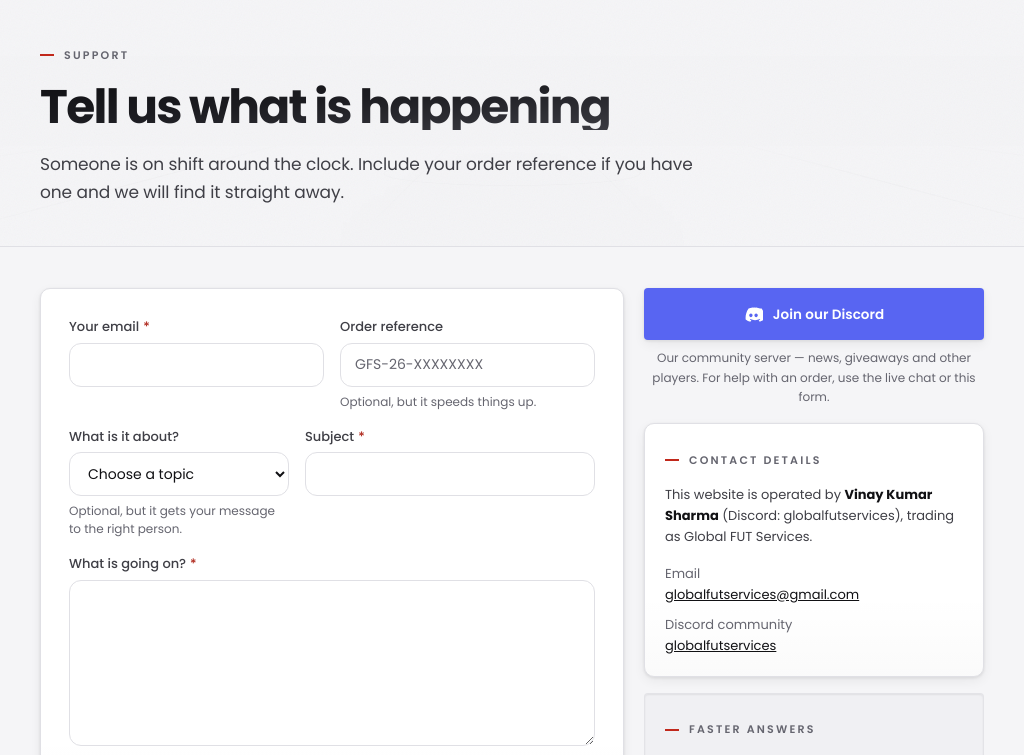
sending › on failure: says it was not sent, keeps what they wrote, and Send works again
Type "ada@example.test" into the field labelled "Your email*" at (196, 365), box [69, 343, 324, 387]
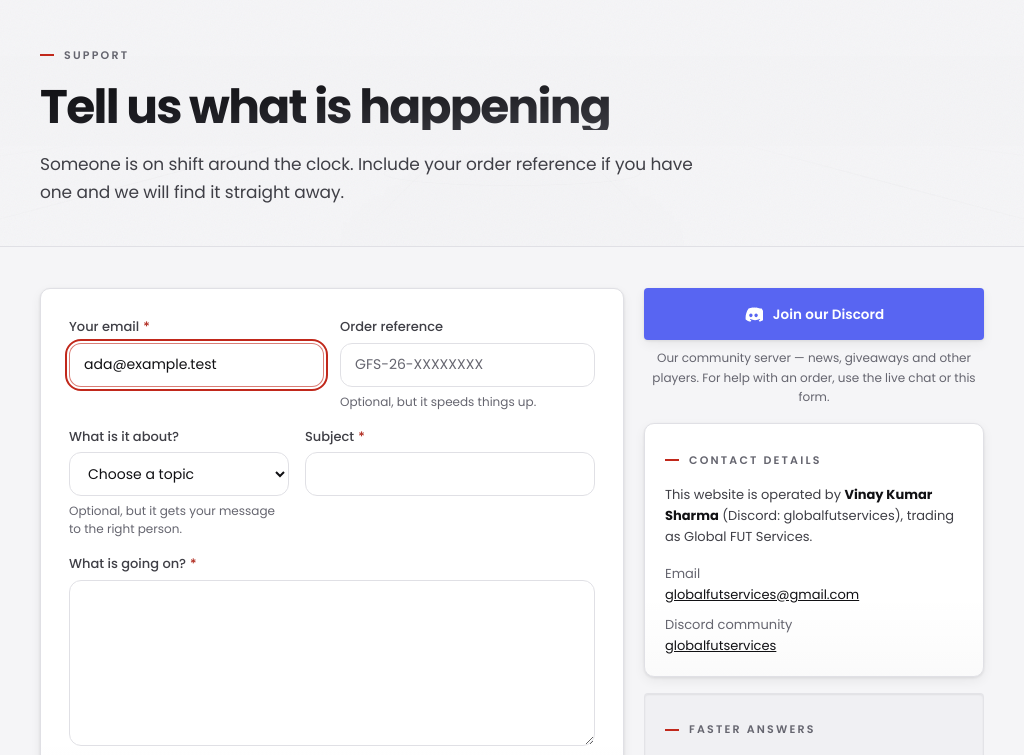
Type "Coins not arrived" into the field labelled "Subject*" at (450, 474), box [305, 452, 595, 496]
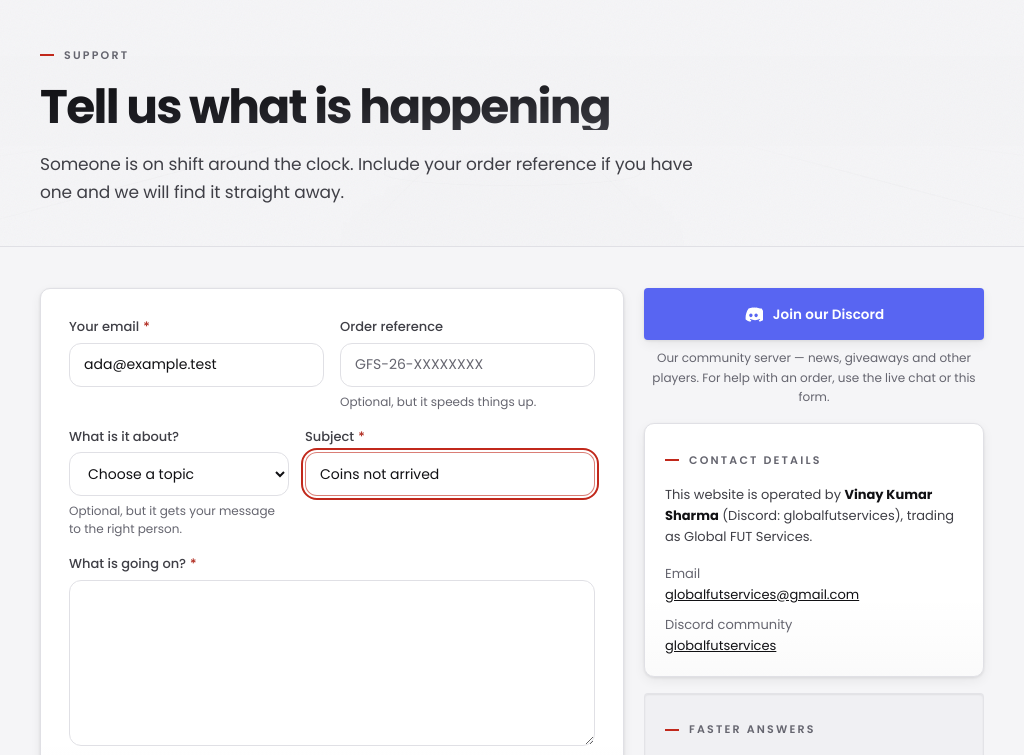
Type "Ordered yesterday, nothing yet." into the text box labelled "What is going on?*" at (332, 663), box [69, 580, 595, 746]
(page scrolled)
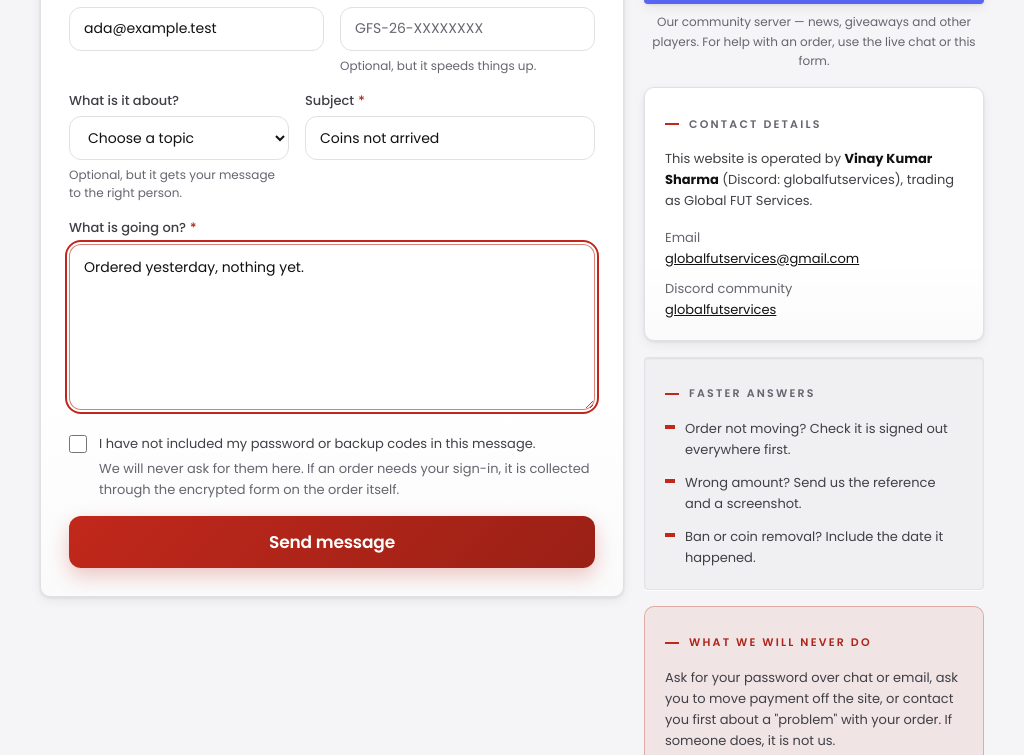
Click the checkbox at (78, 444), box [69, 435, 87, 453]
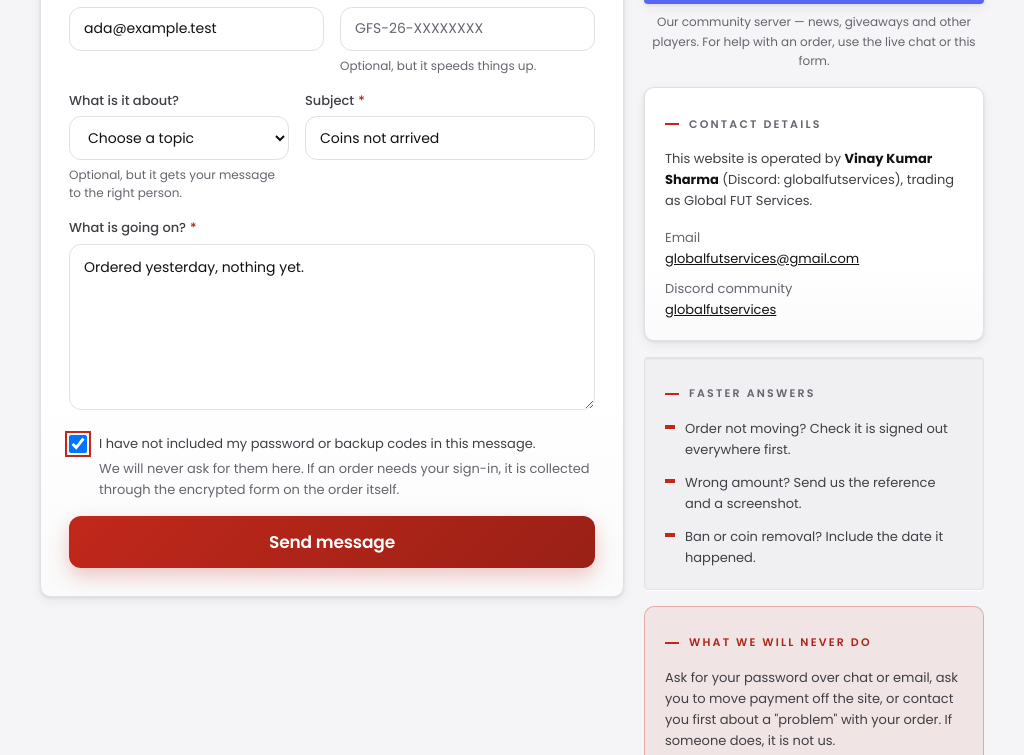
Click the button "Send message" at (332, 542), box [69, 516, 595, 568]
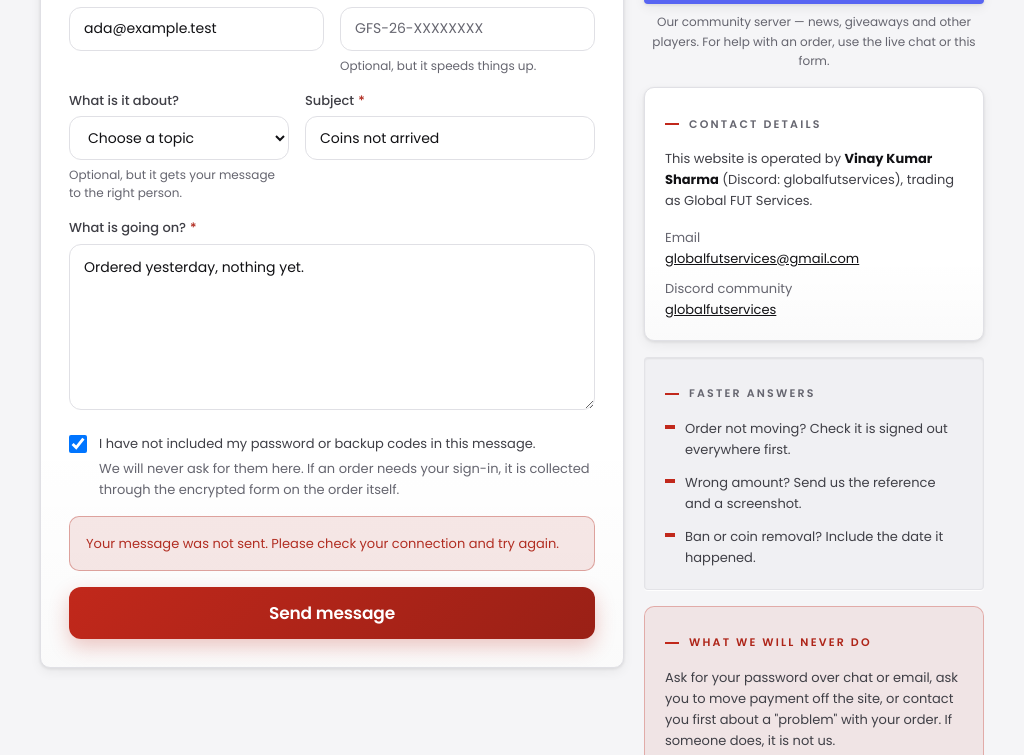
Result: the text "Your message was not sent" is shown at [86, 534, 559, 553]
Click the button "Send message" at (332, 613), box [69, 587, 595, 639]
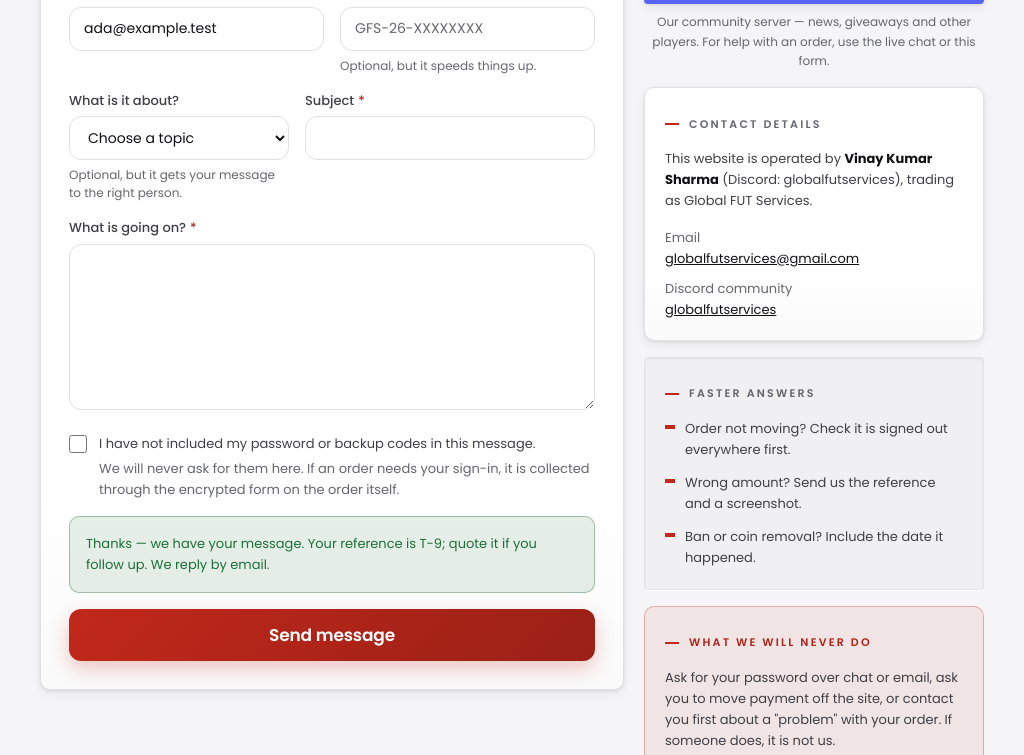
Result: the text "Your reference is T-9" is shown at [86, 534, 537, 574]
